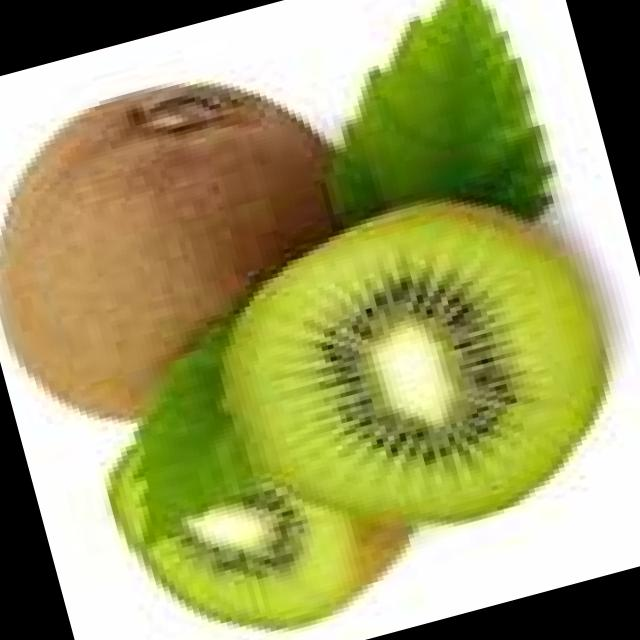kivi: (222, 202, 601, 520), (0, 85, 333, 418), (108, 326, 407, 628)
